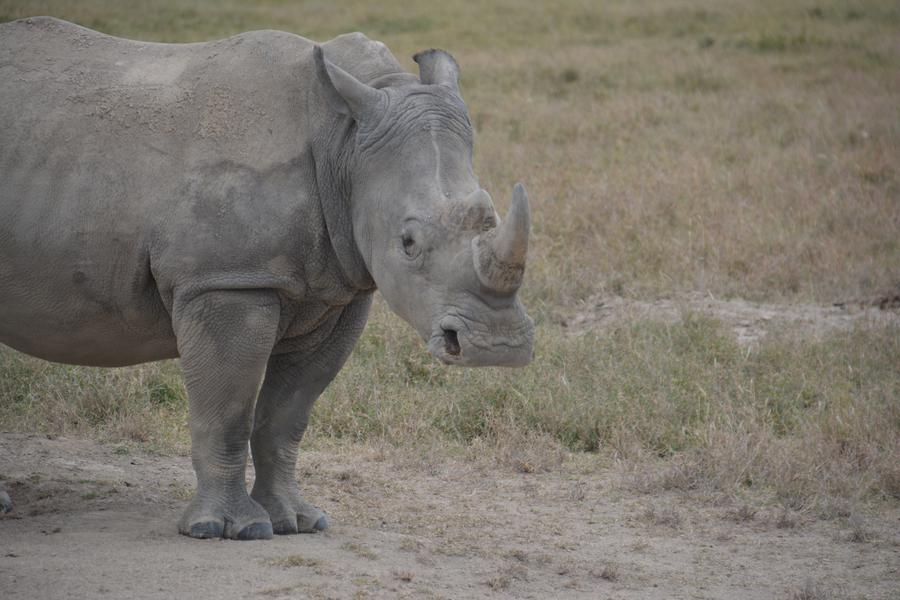rhino: (29, 26, 507, 474)
